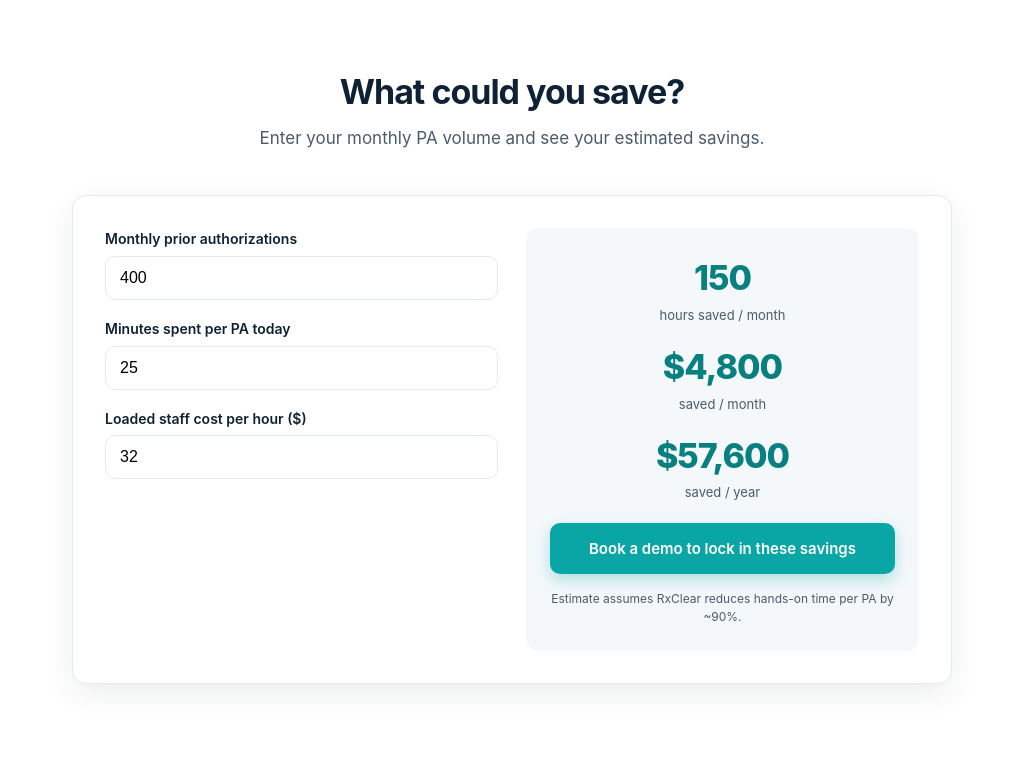
Test: ROICalculator › recalculates when inputs change
Replace the text in the number field labelled "Monthly prior authorizations" with "800" at coordinates (302, 278), box [105, 256, 498, 300]
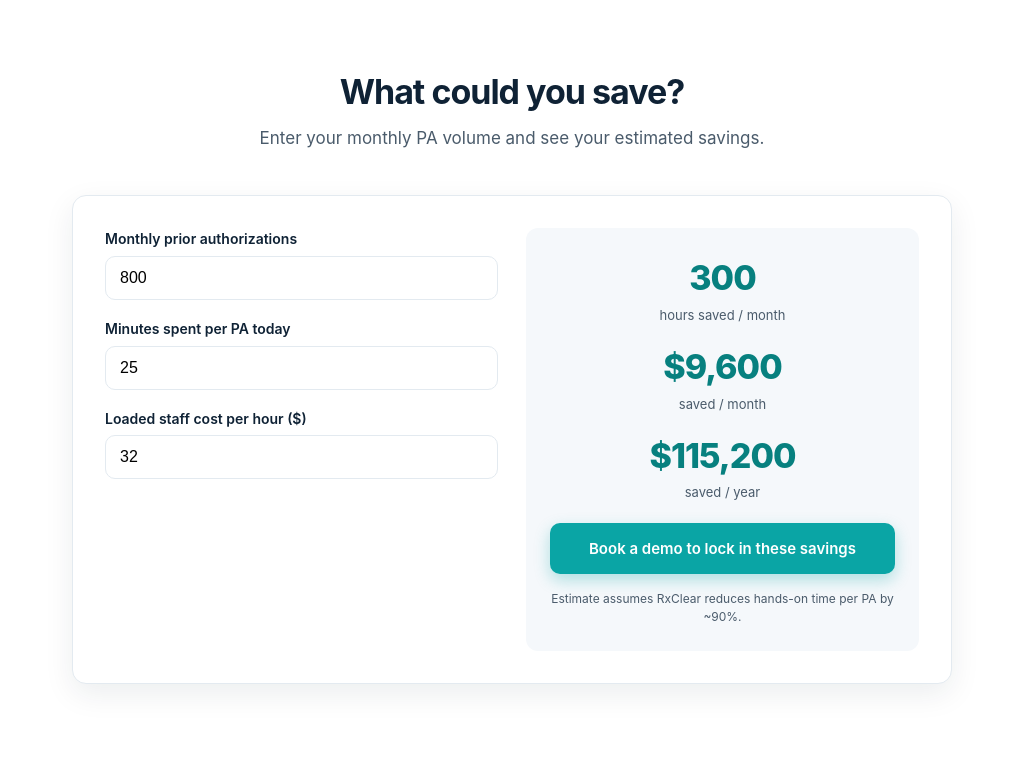
Expected: the text "300" is shown, [689, 257, 756, 298]
Expected: the text "$9,600" is shown, [663, 346, 782, 387]
